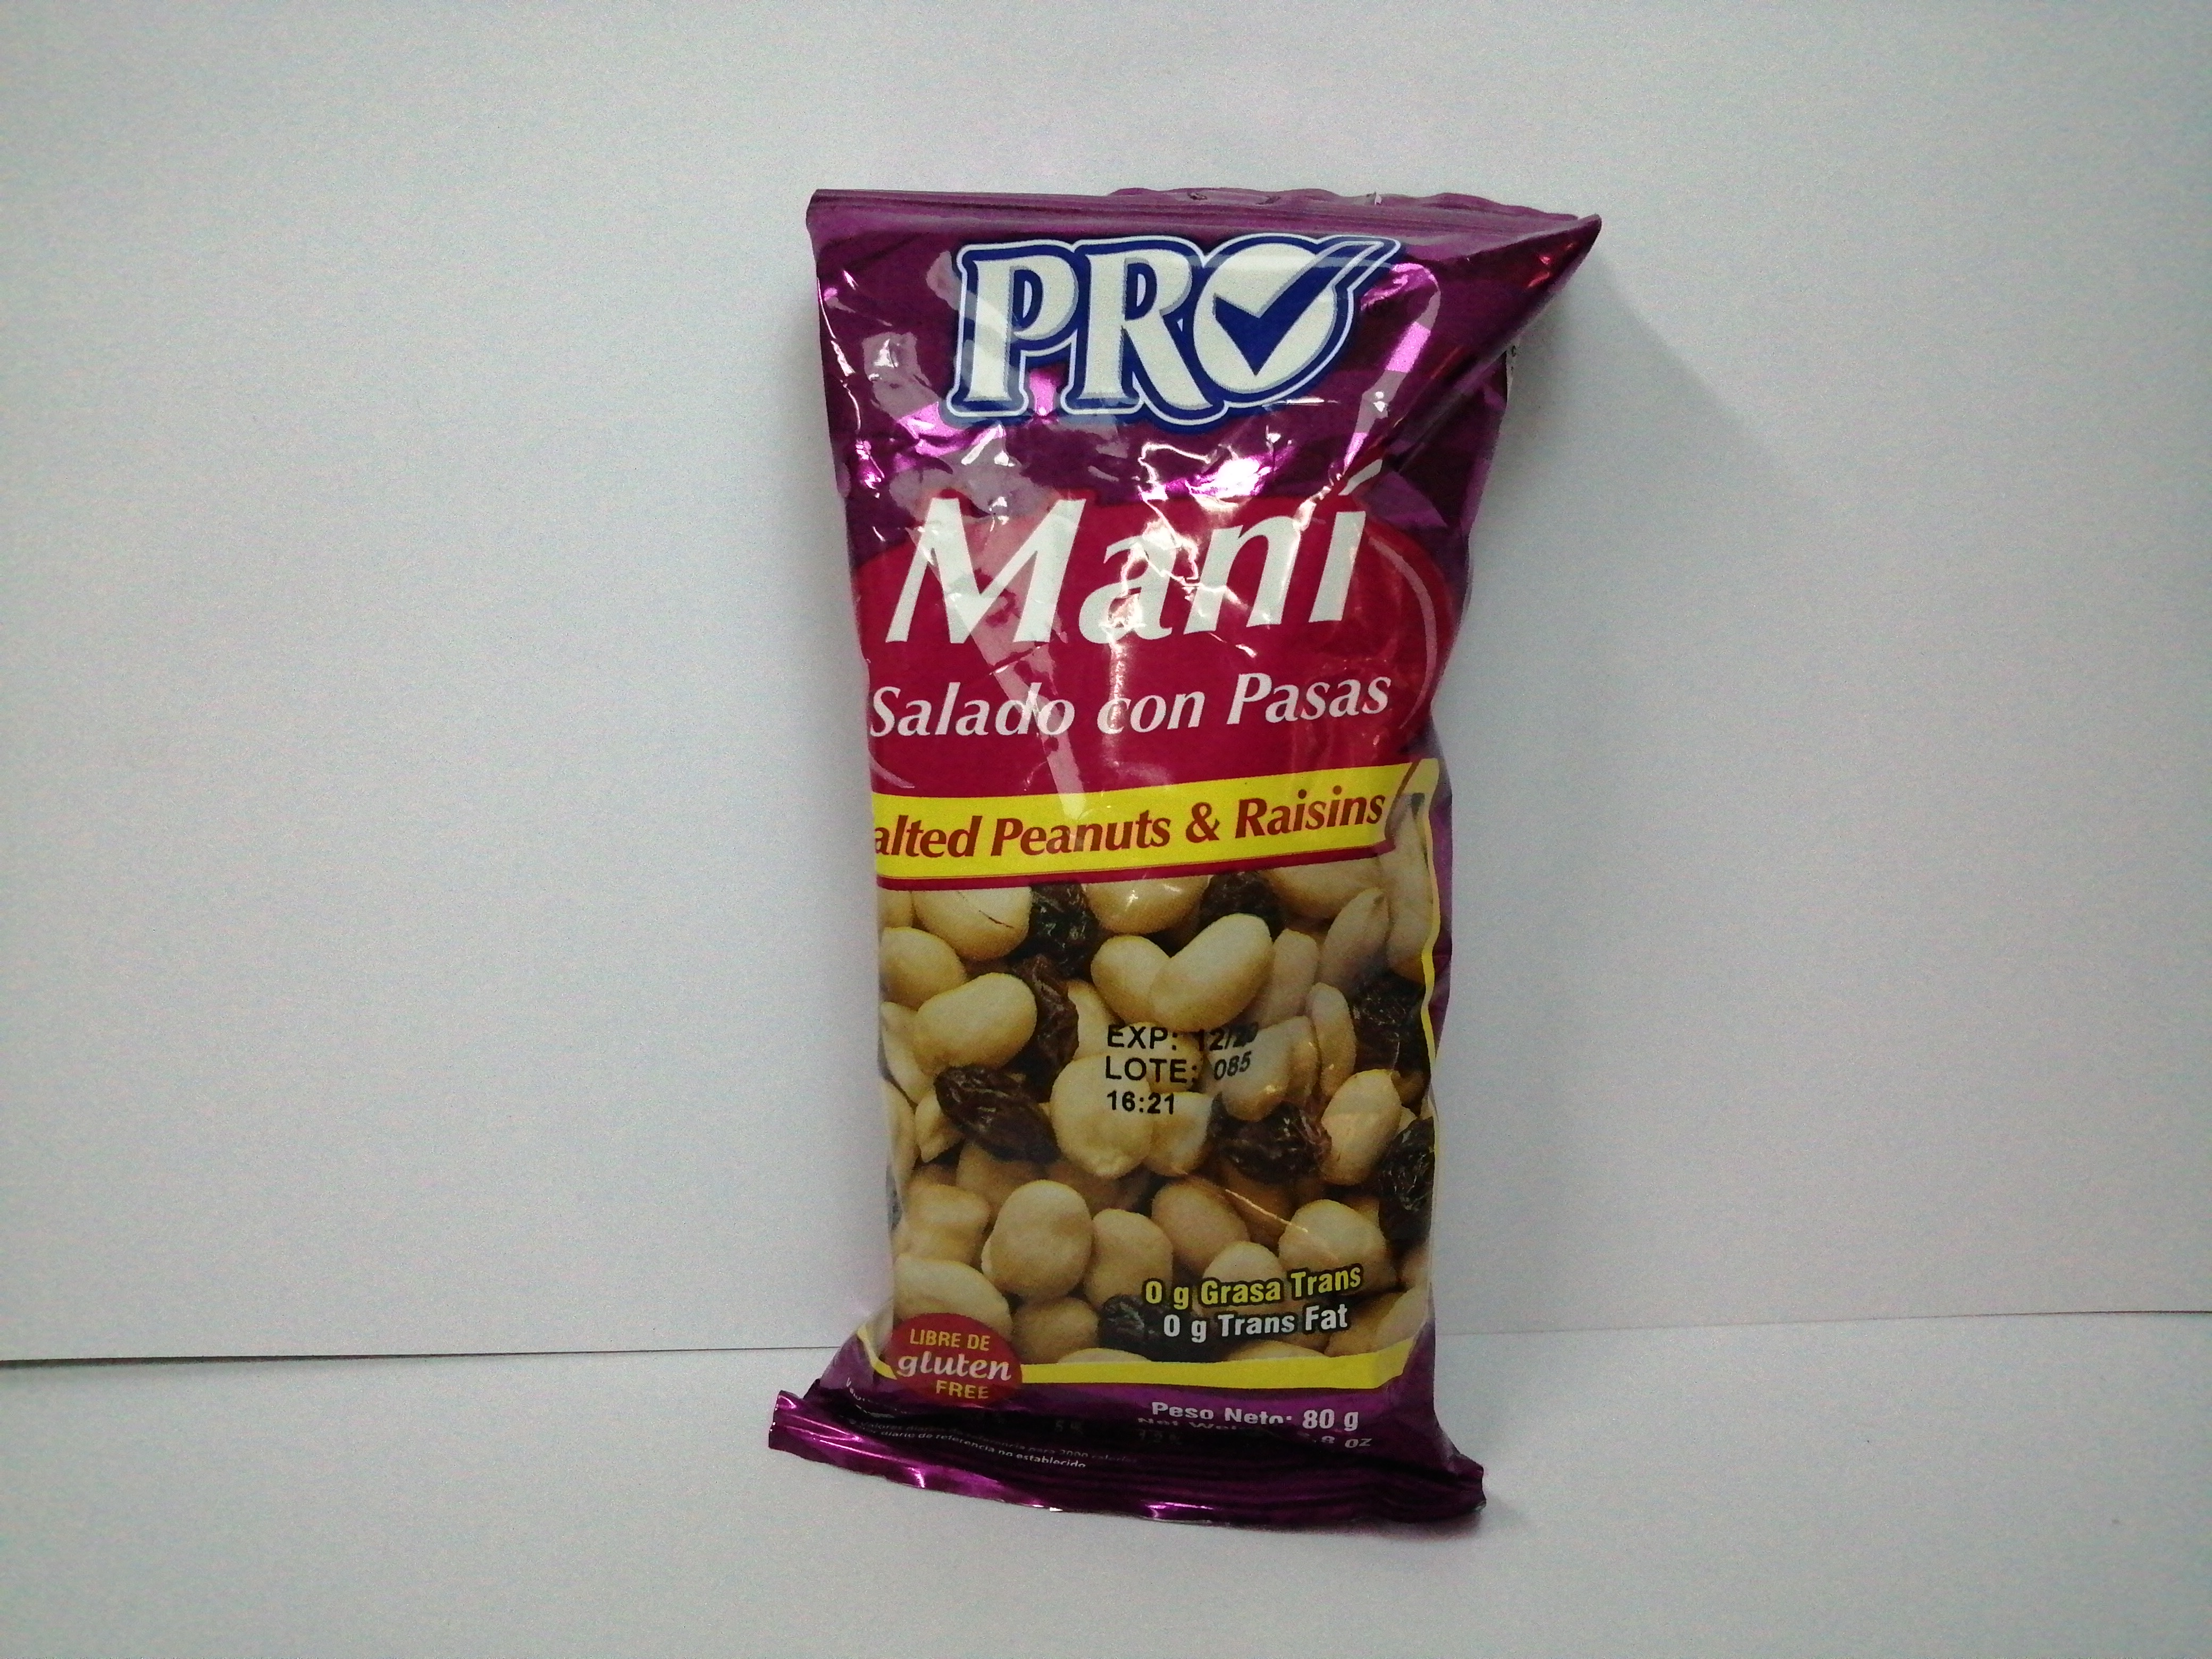mani: (770, 188, 1597, 1523)
